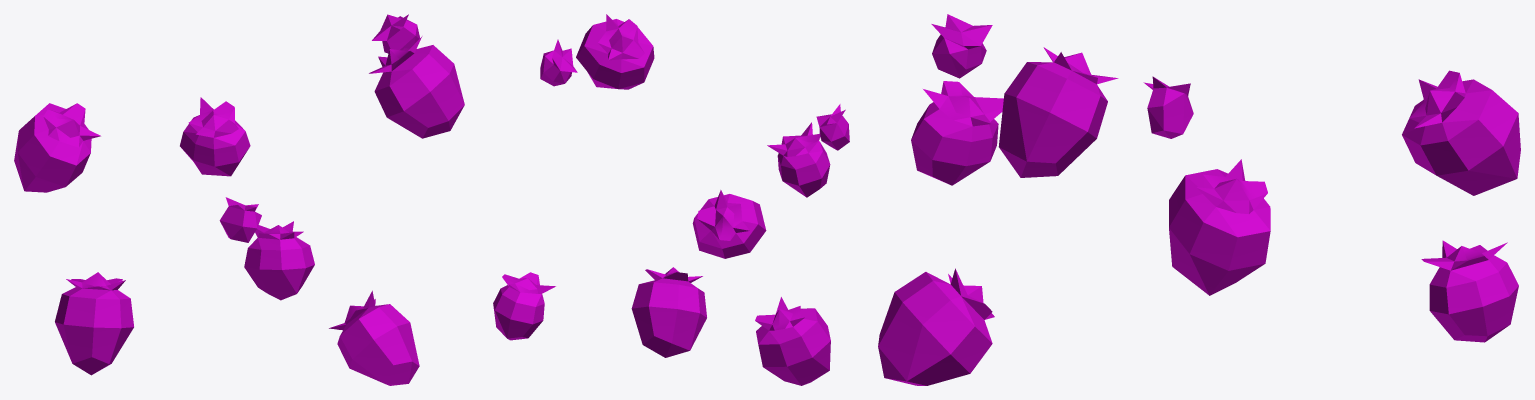
Rendered from Strawberry.fbx.
The picture shows the model from 3 angles, left to right: view 1: azimuth 30°, elevation 25°; view 2: azimuth 150°, elevation 25°; view 3: azimuth 270°, elevation 25°; orthographic projection. The views are drawn at different scales.
Parts seen in each view (by area): view 1: Strawberry; view 2: Strawberry; view 3: Strawberry.
Part boxes in pixels (x1,y1,x2,y2): Strawberry: (14, 14, 464, 385); Strawberry: (493, 14, 849, 385); Strawberry: (878, 14, 1520, 385).
Size of the model in its own units: 0.3616 by 0.3119 by 0.4371.
